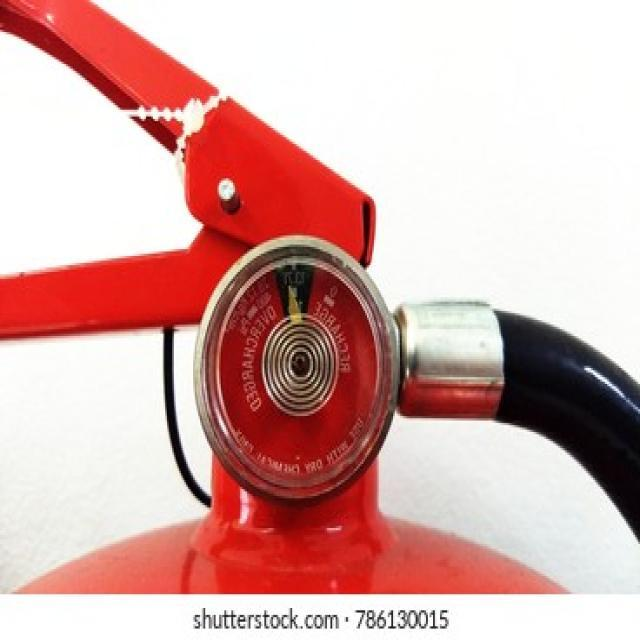pressure gauge: (195, 236, 399, 502)
